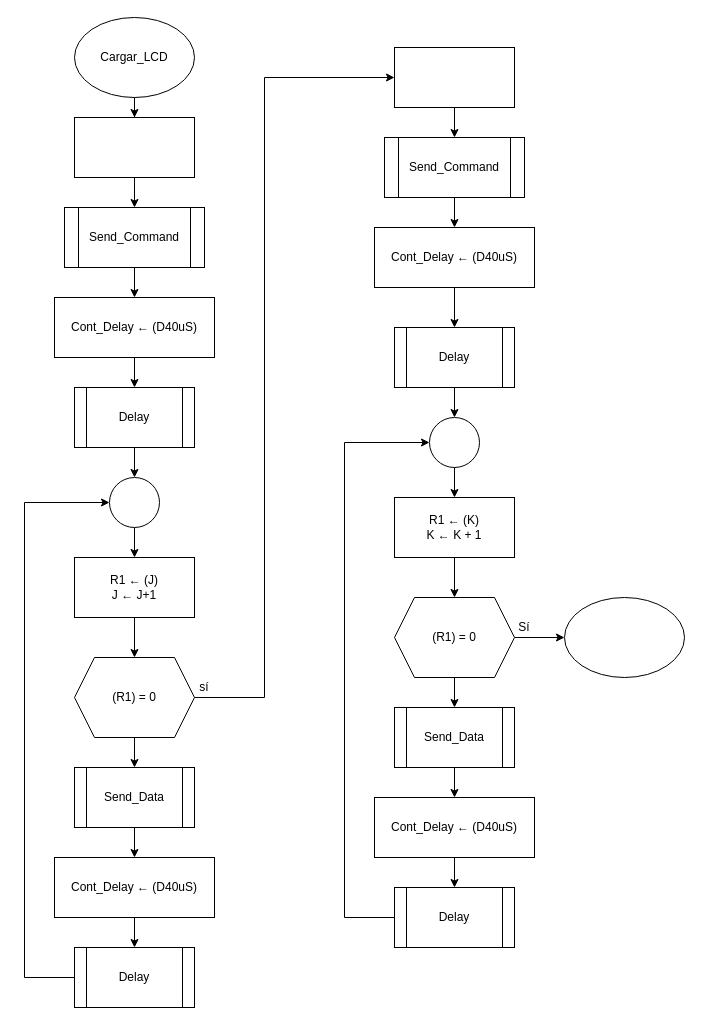
Some shapes in this 702 by 1025 pixel diagram are drawn without their labels. Each missing label, with the centre of its shape:
R1 ← ADD_L1: (134,147)
R1 ← ADD_L2: (454,77)
RETORNAR: (624,637)
